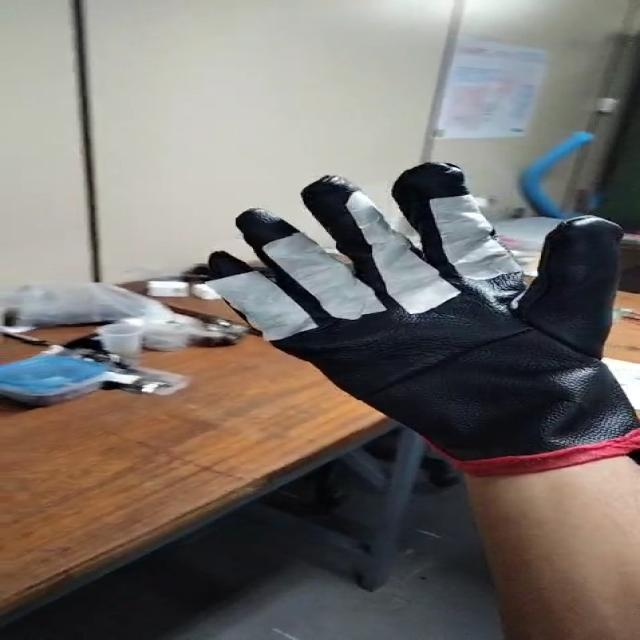Gloves: (204, 158, 640, 467)
